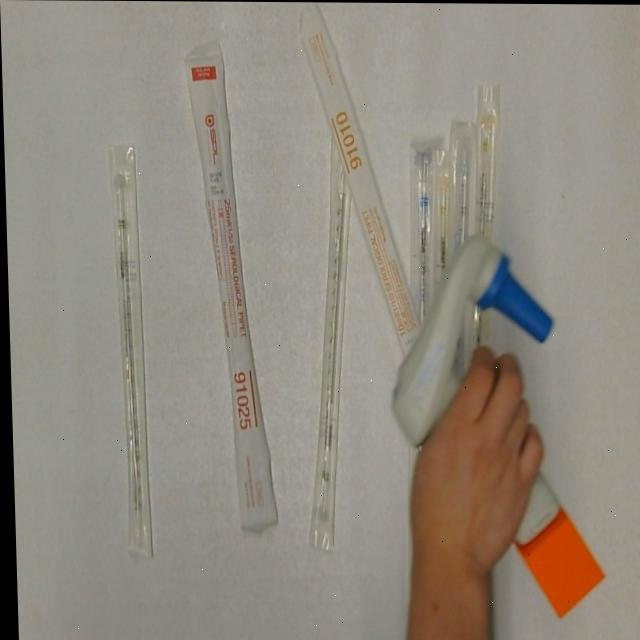Pipette Controller: (382, 221, 608, 628)
Serelogical Pipet 1 mL - Sealed: (462, 78, 512, 357), (432, 149, 454, 268)
Serelogical Pipet 10 mL - Sealed: (297, 3, 424, 363)
Serelogical Pipet 2 mL - Sealed: (290, 121, 363, 556), (106, 140, 153, 563)
Serelogical Pipet 25 mL - Sealed: (182, 35, 281, 536)
Serelogical Pipet 5 mL - Sealed: (403, 134, 442, 326), (445, 113, 478, 252)
